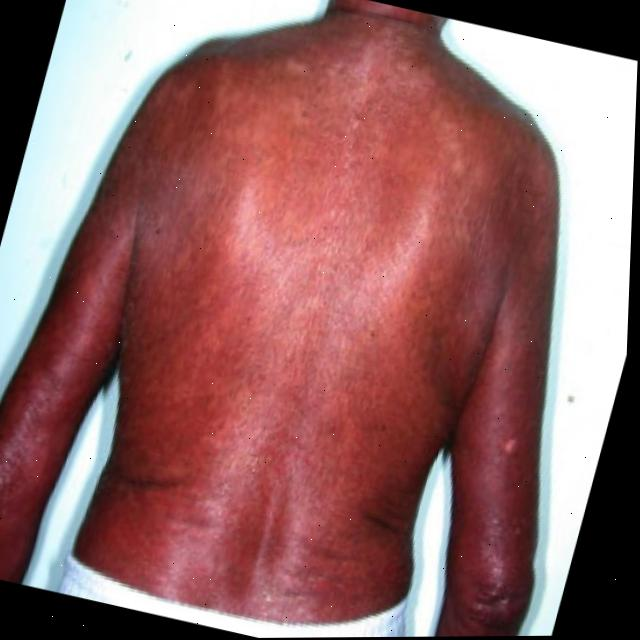Eczema: (0, 35, 577, 640)
